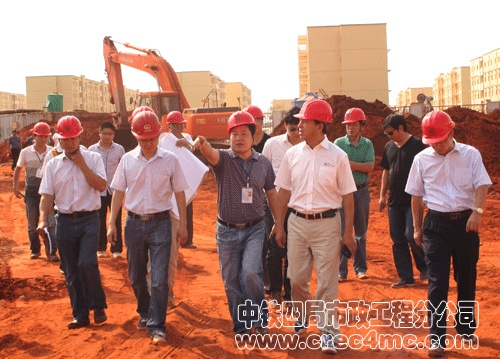none: (381, 111, 407, 141), (283, 107, 301, 138), (98, 122, 115, 145), (11, 129, 17, 136)
red: (422, 109, 455, 154), (297, 97, 332, 139), (226, 108, 257, 155), (130, 112, 160, 152), (57, 115, 82, 154), (343, 106, 366, 135), (244, 105, 263, 136), (166, 110, 185, 134), (32, 122, 50, 146)
